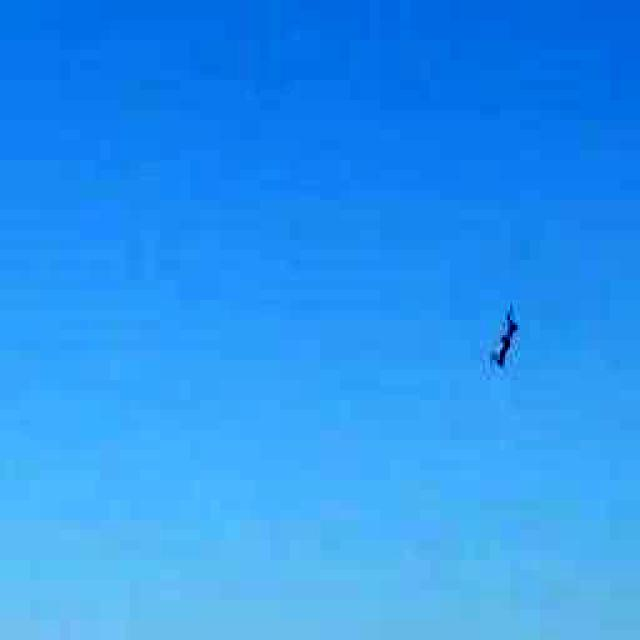bird: (465, 302, 542, 380)
